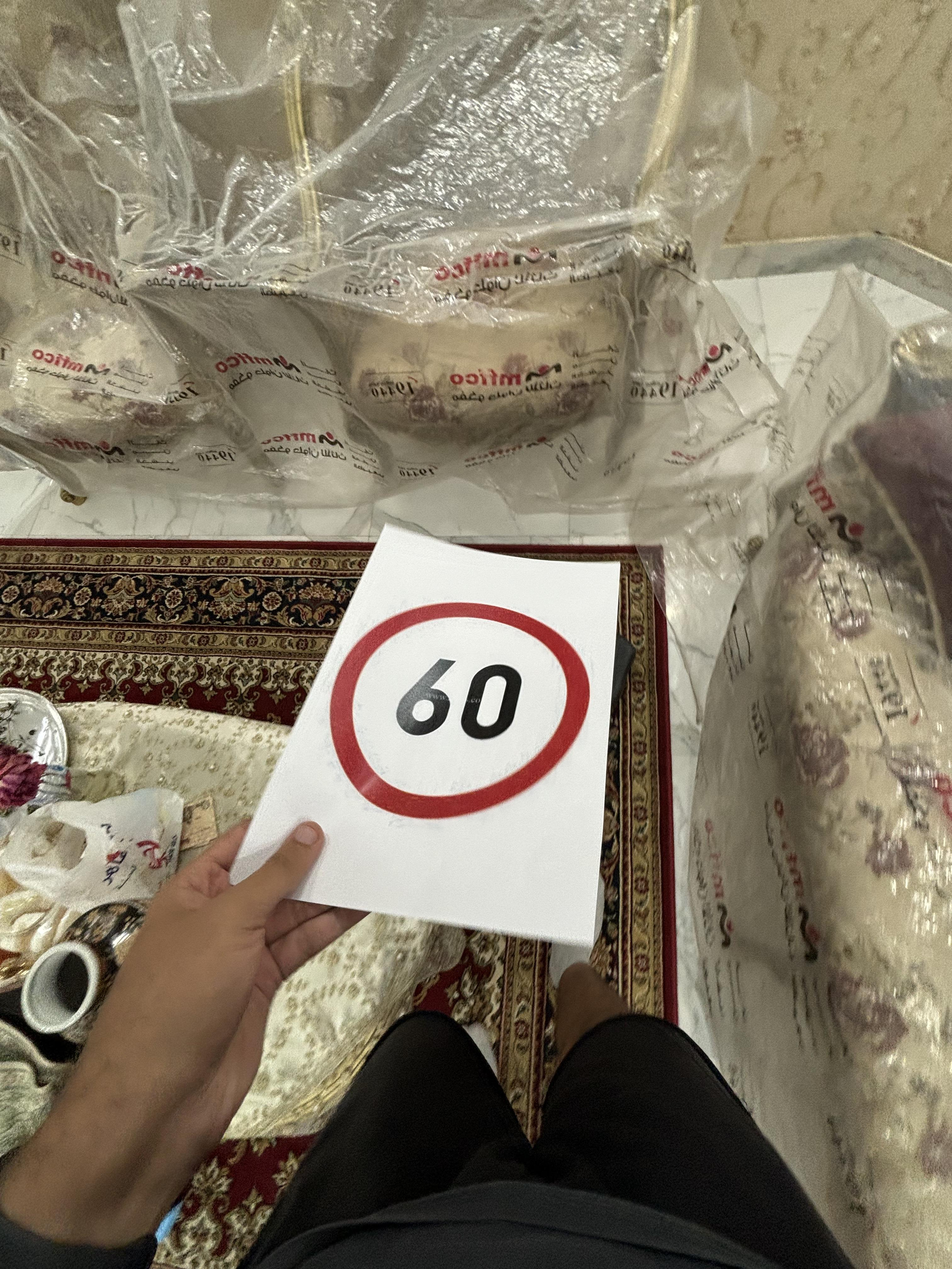60-Speed: (325, 595, 603, 817)
